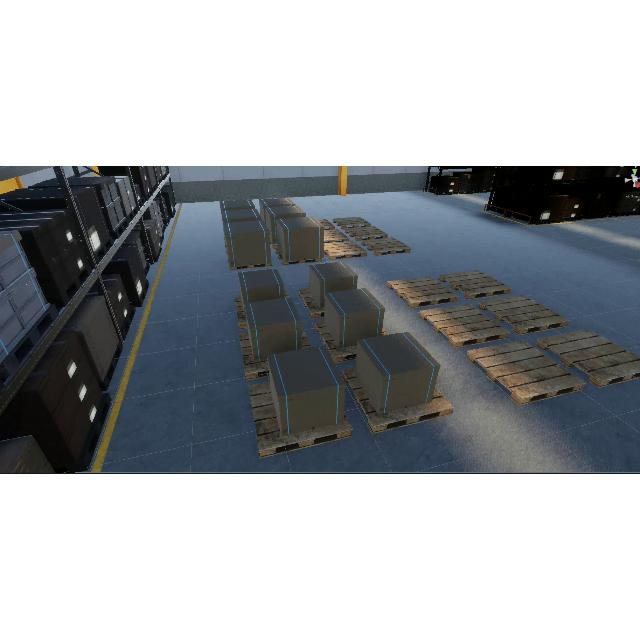wooden_pallet: (248, 381, 352, 459), (466, 340, 586, 406), (342, 368, 454, 435), (534, 329, 640, 389), (419, 304, 509, 348), (477, 295, 570, 336), (387, 276, 460, 309), (439, 270, 512, 300), (315, 322, 357, 364), (238, 333, 270, 382), (361, 237, 411, 256), (298, 287, 325, 319), (324, 241, 368, 260), (275, 248, 322, 264), (345, 226, 388, 241), (333, 216, 371, 229)
